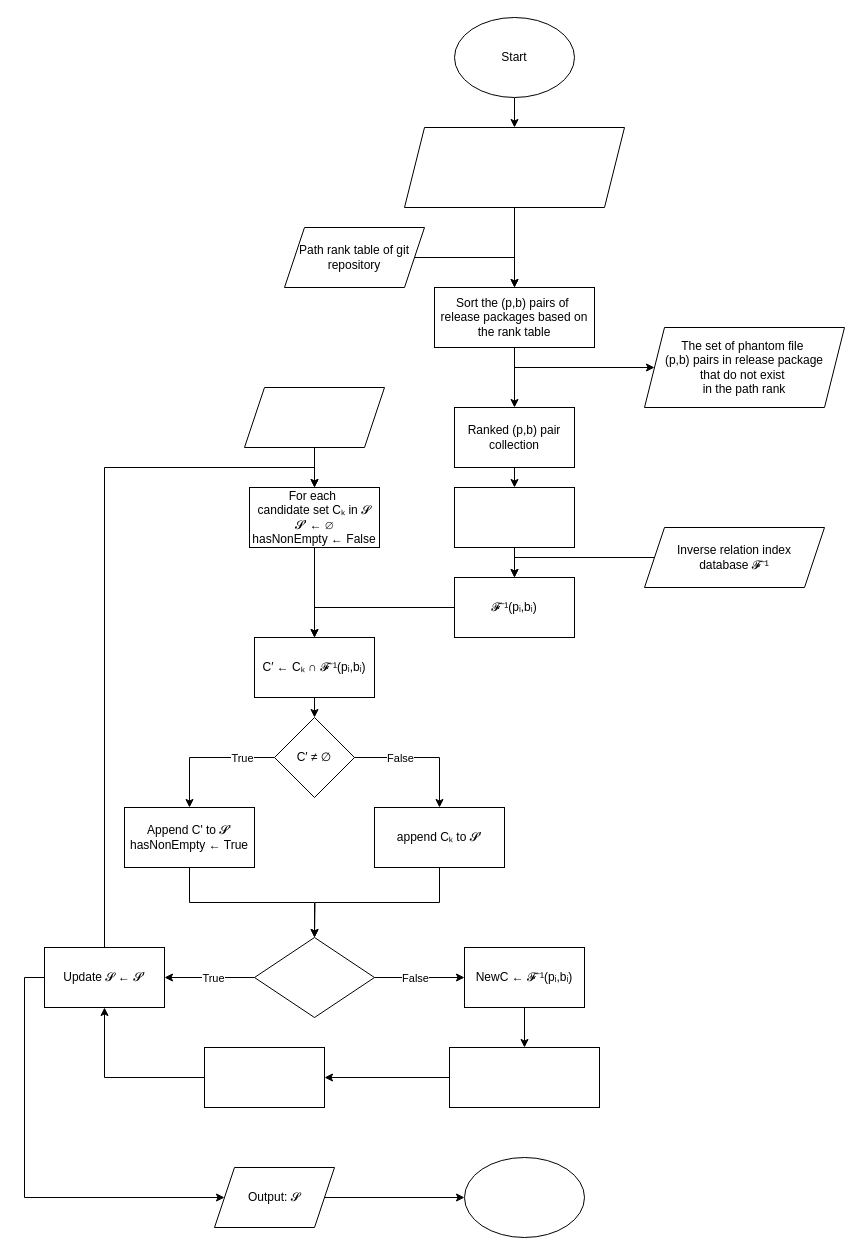
Some shapes in this 862 by 1255 pixel diagram are drawn without their labels. Each missing label, with the box of its shape:
Append NewC to 𝓢′: (204, 1046, 324, 1108)
End: (464, 1156, 584, 1238)
For each (pᵢ, bᵢ): (454, 486, 574, 548)
for j < i: NewC ← NewC ∩ 𝓕⁻¹(pⱼ,bⱼ): (448, 1046, 600, 1108)
hasNonEmpty: (254, 936, 374, 1018)
Initial collections of candidate sets 𝓢 ← ∅: (244, 386, 384, 448)
The set of files and contents of the release package: (p, b) pair set 𝓡: (404, 126, 624, 208)
